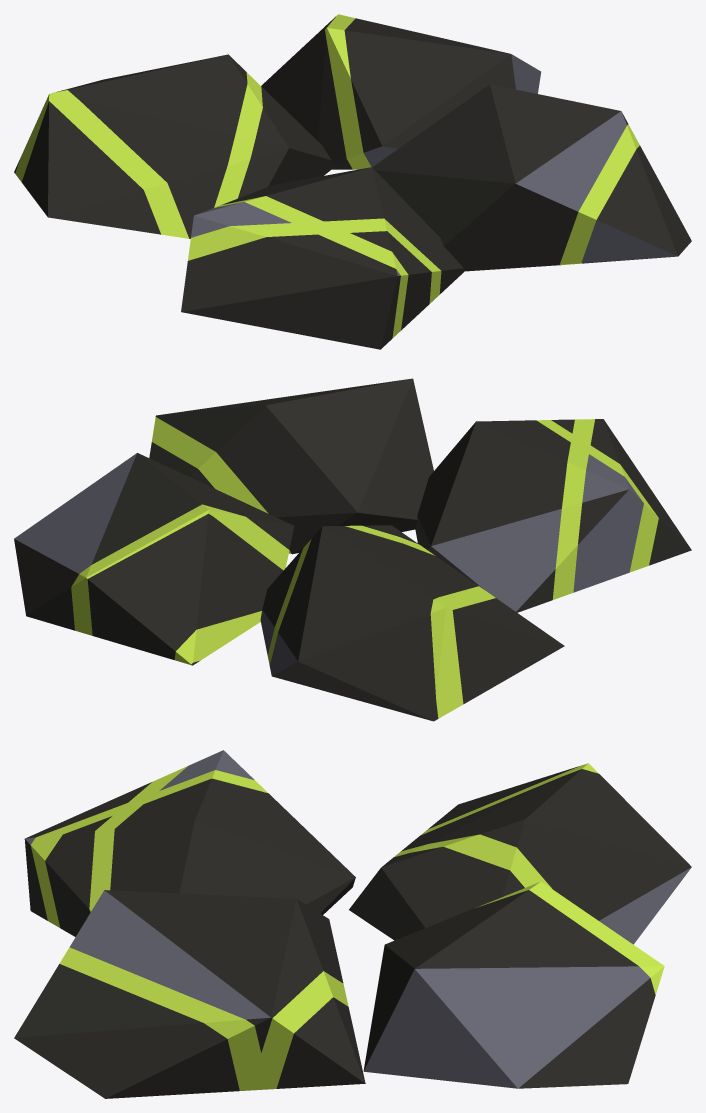
The model's file is minerai_uraninite_1.glb.
3 views of the same model, one above another, from view 1: azimuth 30°, elevation 25°; view 2: azimuth 150°, elevation 25°; view 3: azimuth 270°, elevation 25° (orthographic). The views are drawn at different scales.
Parts seen in each view (by area): view 1: minerai_pechblende.004, minerai_autunite.004, minerai_charbon_brillant.008; view 2: minerai_pechblende.004, minerai_autunite.004, minerai_charbon_brillant.008; view 3: minerai_pechblende.004, minerai_charbon_brillant.008, minerai_autunite.004.
Boxes of the visible parts, x1=… form: minerai_pechblende.004: x1=14, y1=16, x2=691, y2=349; minerai_autunite.004: x1=15, y1=14, x2=639, y2=338; minerai_charbon_brillant.008: x1=191, y1=54, x2=677, y2=275; minerai_pechblende.004: x1=14, y1=378, x2=691, y2=721; minerai_autunite.004: x1=71, y1=417, x2=658, y2=718; minerai_charbon_brillant.008: x1=14, y1=453, x2=643, y2=675; minerai_pechblende.004: x1=14, y1=766, x2=691, y2=1098; minerai_charbon_brillant.008: x1=25, y1=750, x2=691, y2=1088; minerai_autunite.004: x1=30, y1=763, x2=664, y2=1090.
Size of the model in its own units: 0.5381 by 0.1211 by 0.544.
